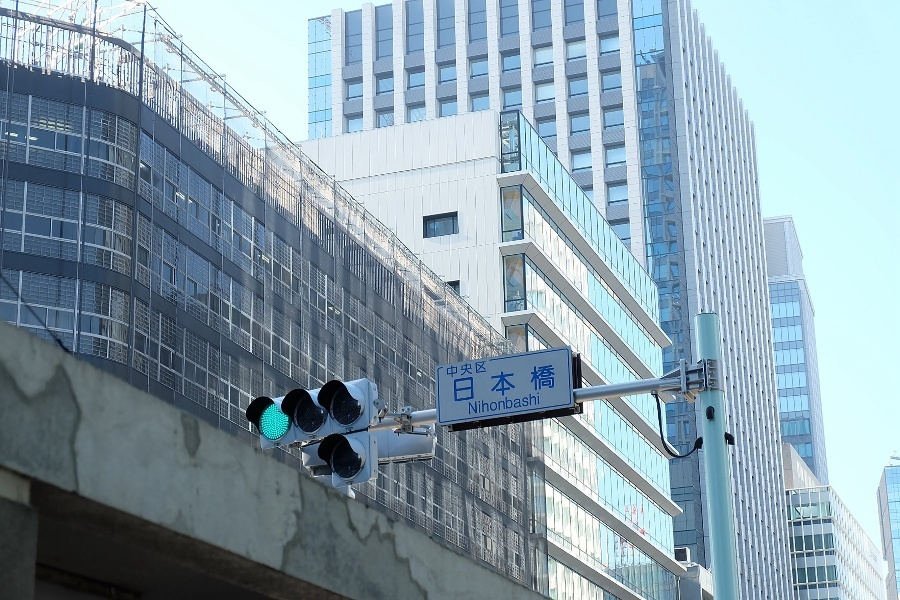text: (465, 362, 480, 404), (481, 362, 496, 404), (497, 362, 512, 404), (513, 362, 528, 404), (529, 362, 544, 404), (454, 362, 464, 404), (545, 362, 555, 404), (481, 392, 496, 415), (497, 392, 512, 415), (513, 392, 528, 415), (468, 392, 480, 415), (449, 361, 464, 379), (465, 361, 480, 379), (529, 392, 540, 415), (481, 361, 487, 379), (446, 361, 448, 379)
